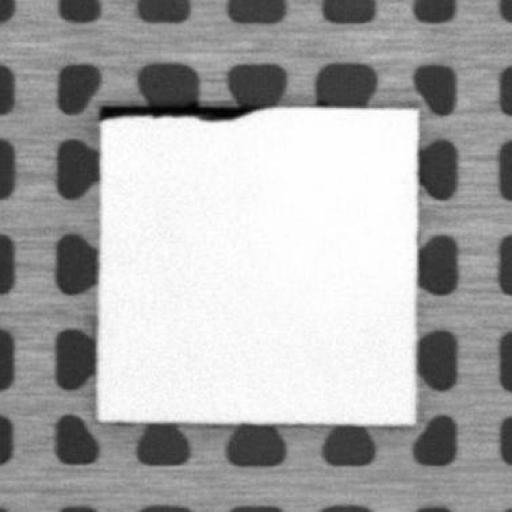DIE_BROKEN: (98, 98, 262, 122)
